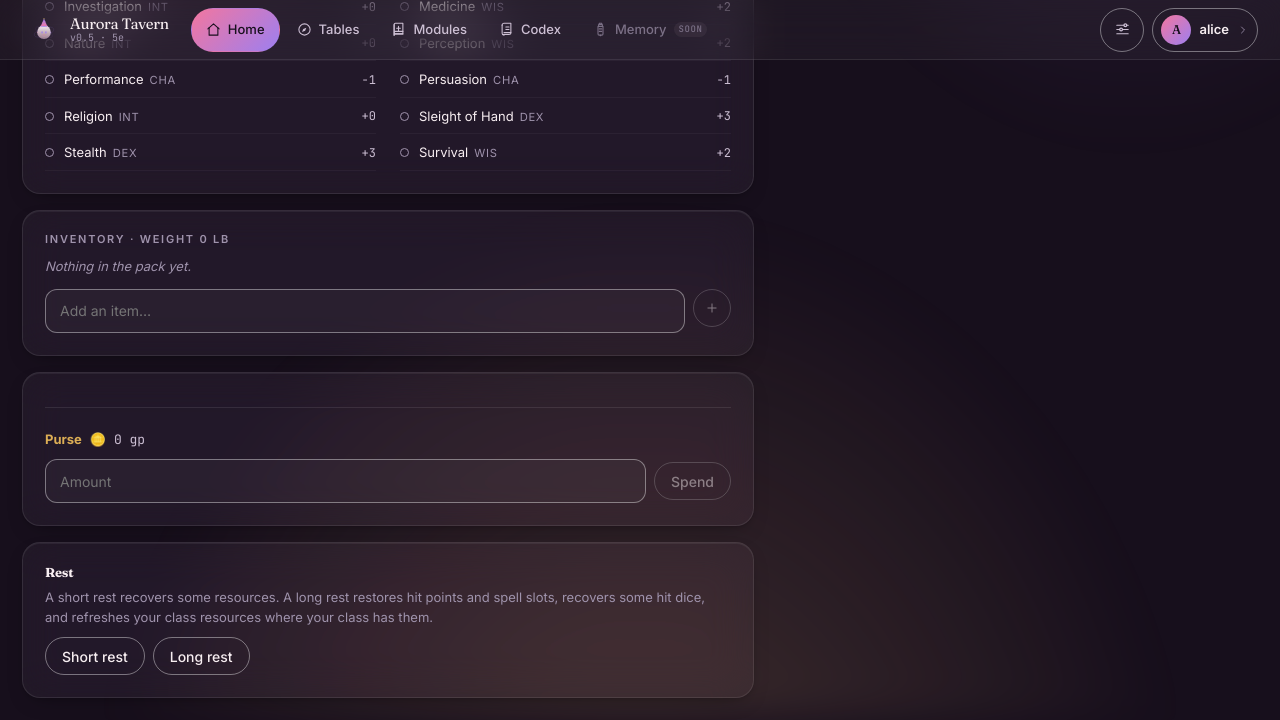
TAV-REST-UI — a failed reconcile must not be reported as a failed rest, page-level › handleRested rejecting does NOT route through load/setState("error") and blank the sheet
This screenshot has width=1280, height=720.
(page scrolled)
Click the button "Short rest".
click(95, 656)  # box [45,637,145,675]
(page scrolled)
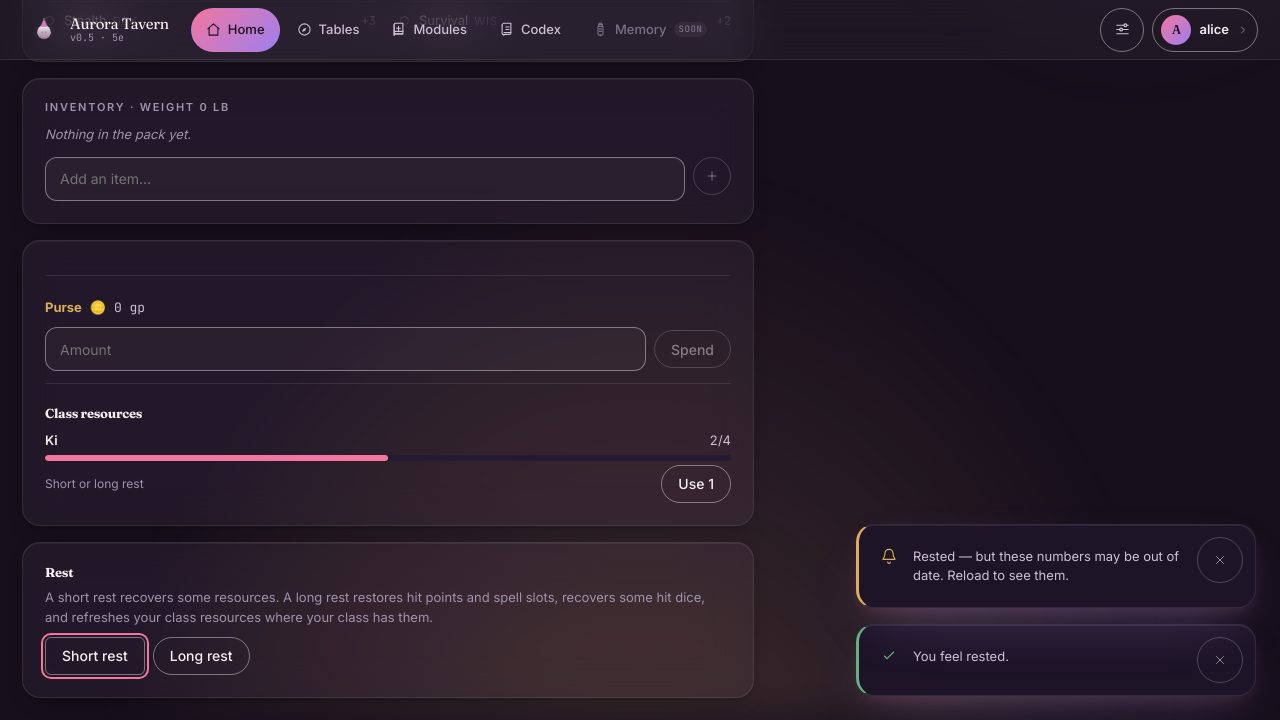
Expected: the text "Rested — but these numbers may be out of date. Reload to see them." is shown, [913,547,1191,585]
